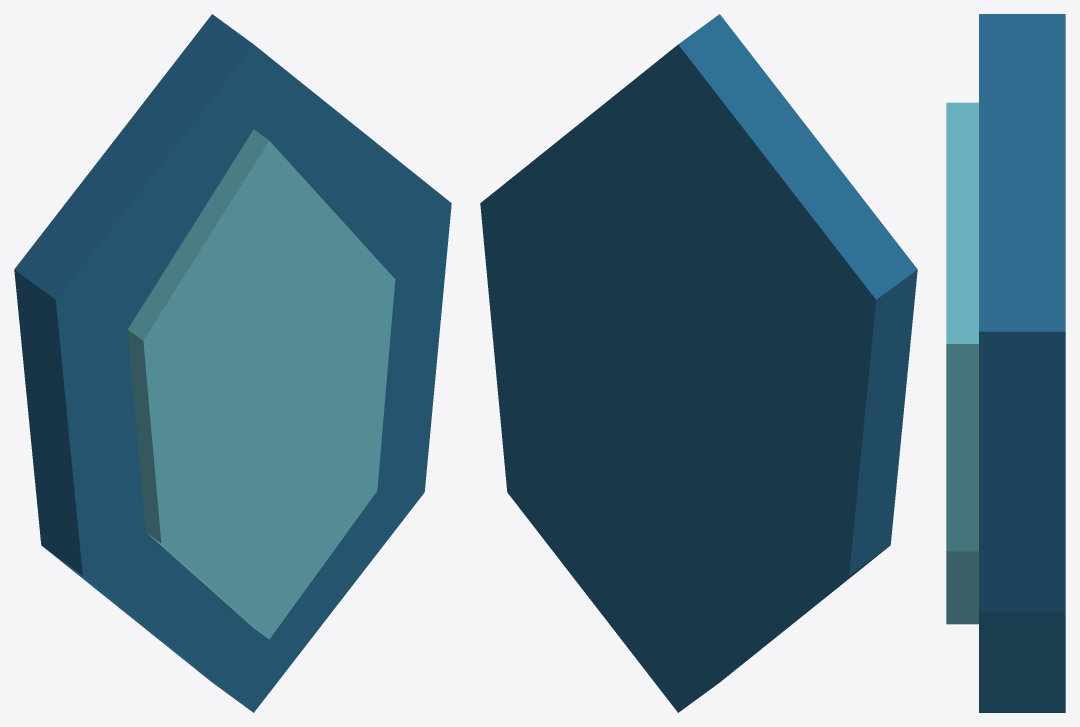
Rendered from scale_blue.fbx.
The picture shows the model from 3 angles, left to right: view 1: azimuth 30°, elevation 25°; view 2: azimuth 150°, elevation 25°; view 3: azimuth 270°, elevation 25°; orthographic projection. The views are drawn at different scales.
Parts seen in each view (by area): view 1: scale_blue; view 2: scale_blue; view 3: scale_blue.
Part boxes in pixels (left/top/right/bottom): scale_blue: left=14, top=14, right=451, bottom=712; scale_blue: left=480, top=14, right=917, bottom=712; scale_blue: left=946, top=14, right=1065, bottom=712.
Size of the model in its own units: 0.44 by 0.71 by 0.11.
